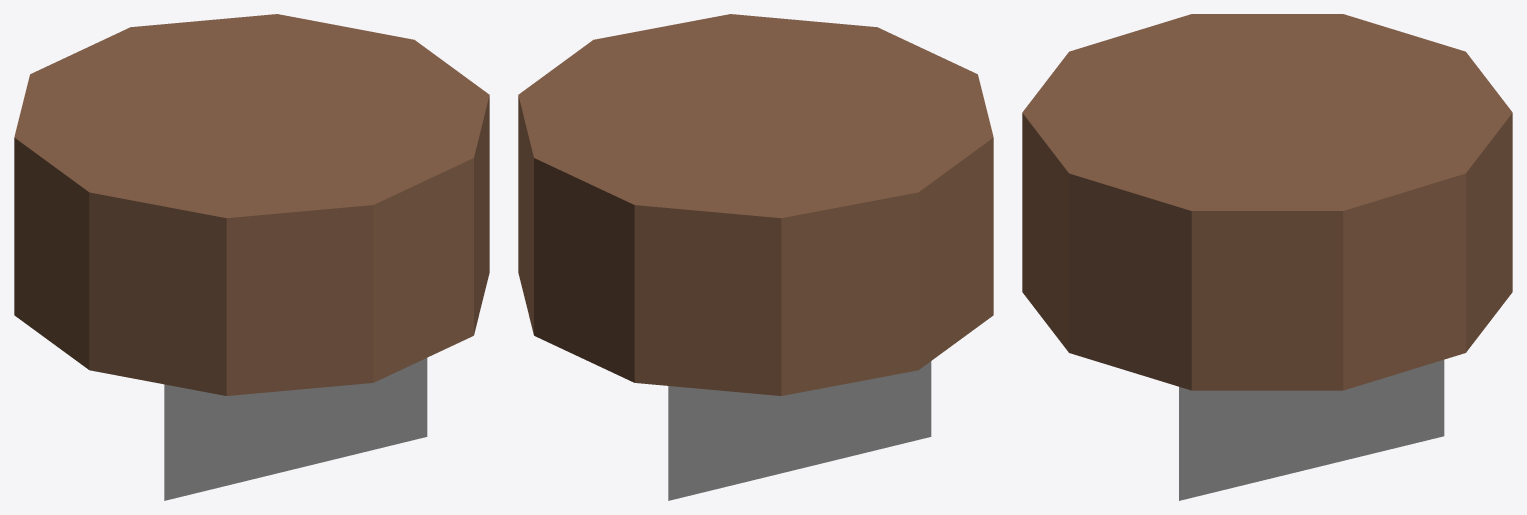
The model's file is ObranyHrotbb.fbx.
3 views of the same model, side by side, from view 1: azimuth 30°, elevation 25°; view 2: azimuth 150°, elevation 25°; view 3: azimuth 270°, elevation 25° (orthographic).
Visible parts, largest first — view 1: Válec, Válec.002; view 2: Válec, Válec.002; view 3: Válec, Válec.002.
Boxes of the visible parts, x1=… form: Válec: x1=14, y1=14, x2=489, y2=395; Válec.002: x1=164, y1=358, x2=427, y2=500; Válec: x1=518, y1=14, x2=993, y2=395; Válec.002: x1=668, y1=361, x2=931, y2=500; Válec: x1=1022, y1=14, x2=1512, y2=390; Válec.002: x1=1179, y1=360, x2=1444, y2=500.
Bounding box in the file's own units: 1.22 × 1.16 × 0.8883.
